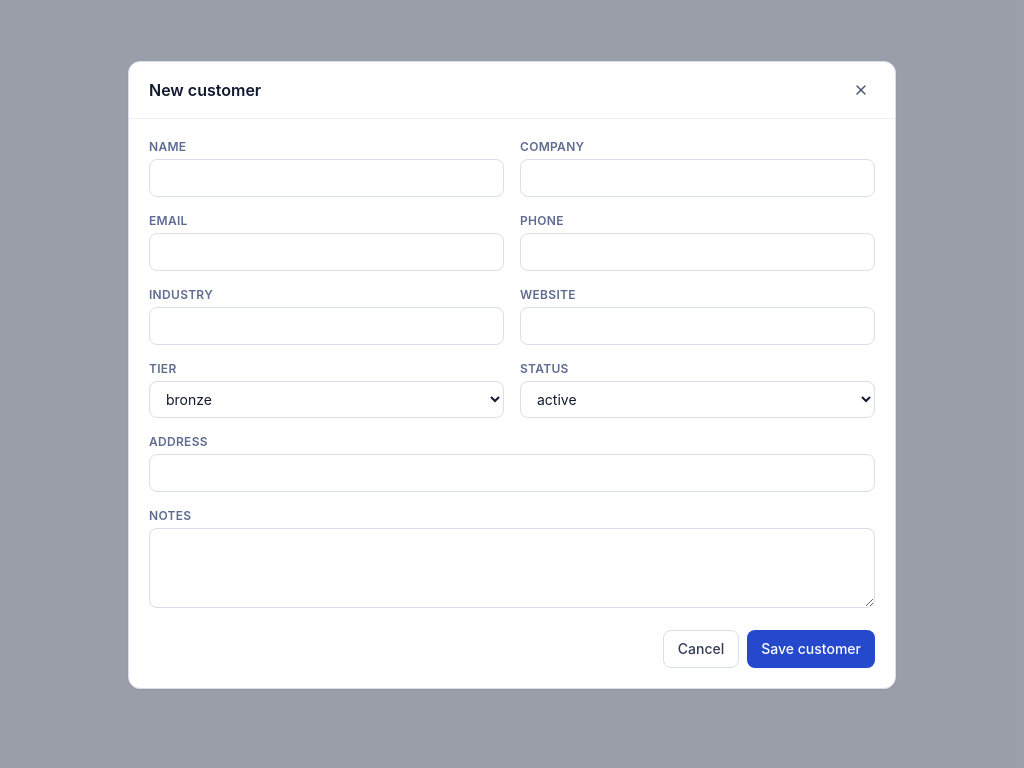
Test: CustomerForm validation › requires a name and a valid email before saving
Type "not-an-email" into the field labelled "Email".
click(326, 252); type("not-an-email")  # box [149,233,504,271]
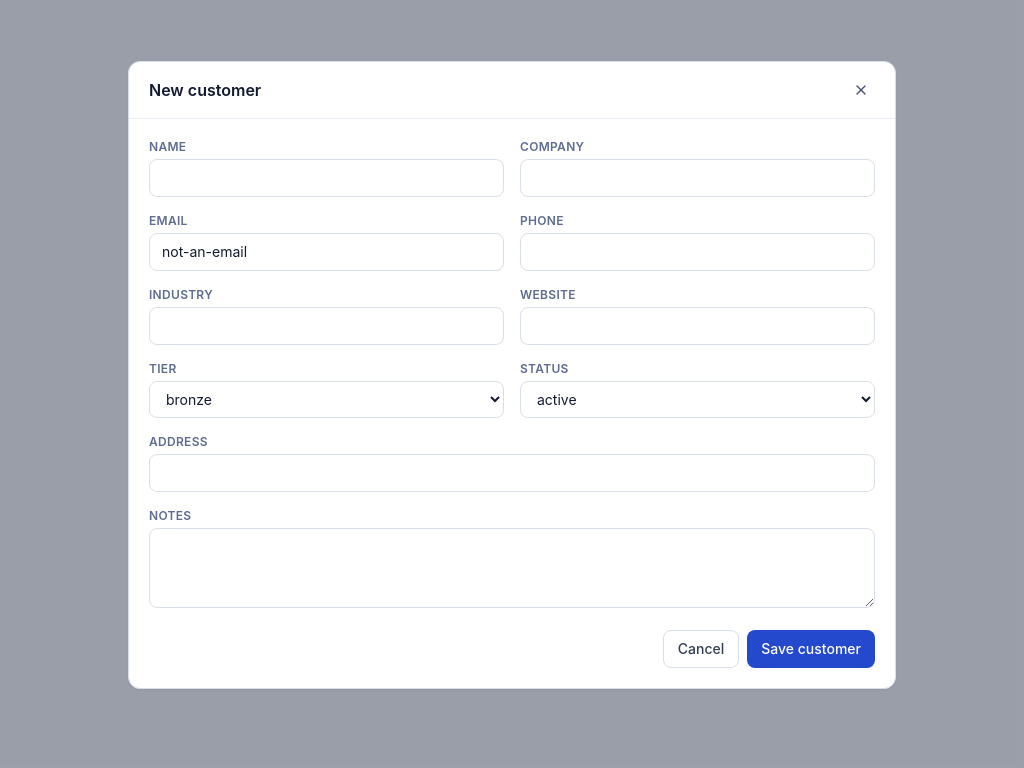
Click the button "Save customer".
click(811, 649)  # box [747,630,875,668]
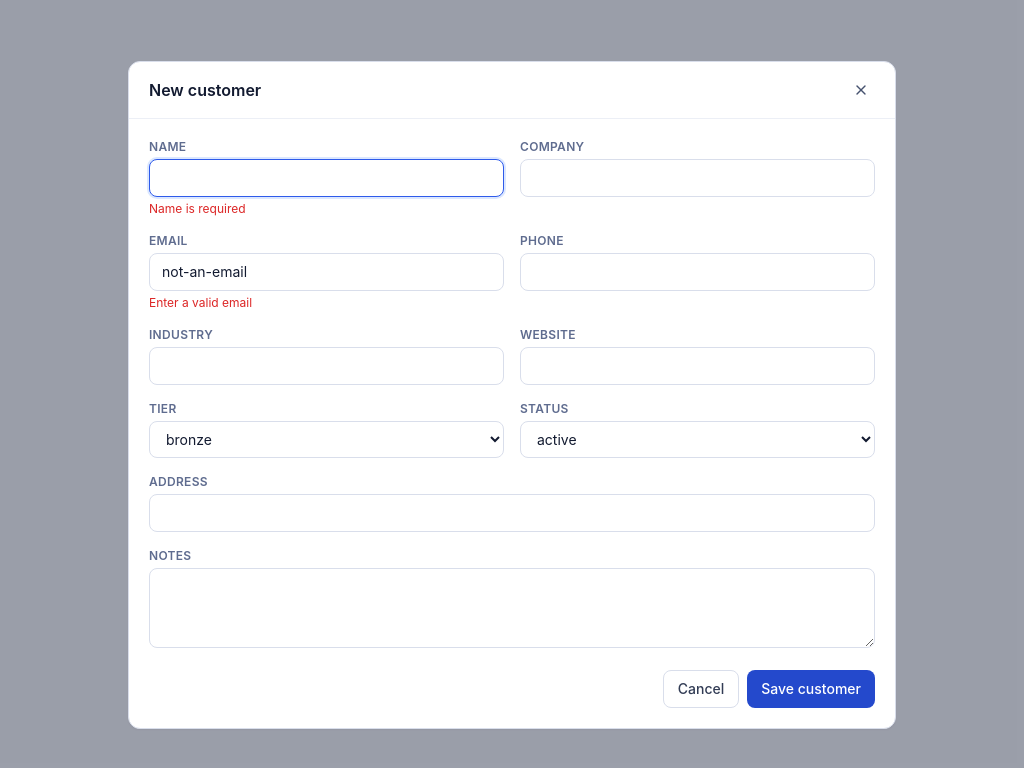
Check: the text "Name is required" is shown, box [149,201,246,216]
Check: the text "Enter a valid email" is shown, box [149,295,252,310]
